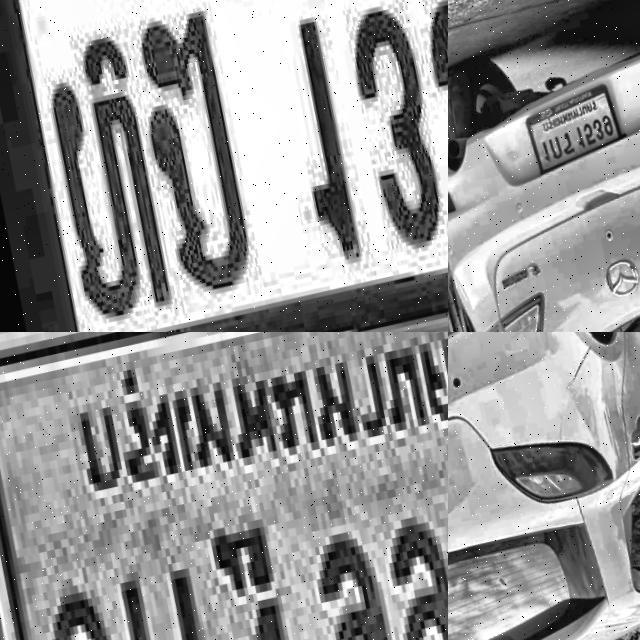license-plate: (0, 0, 448, 332), (0, 332, 448, 640), (520, 81, 631, 185)
